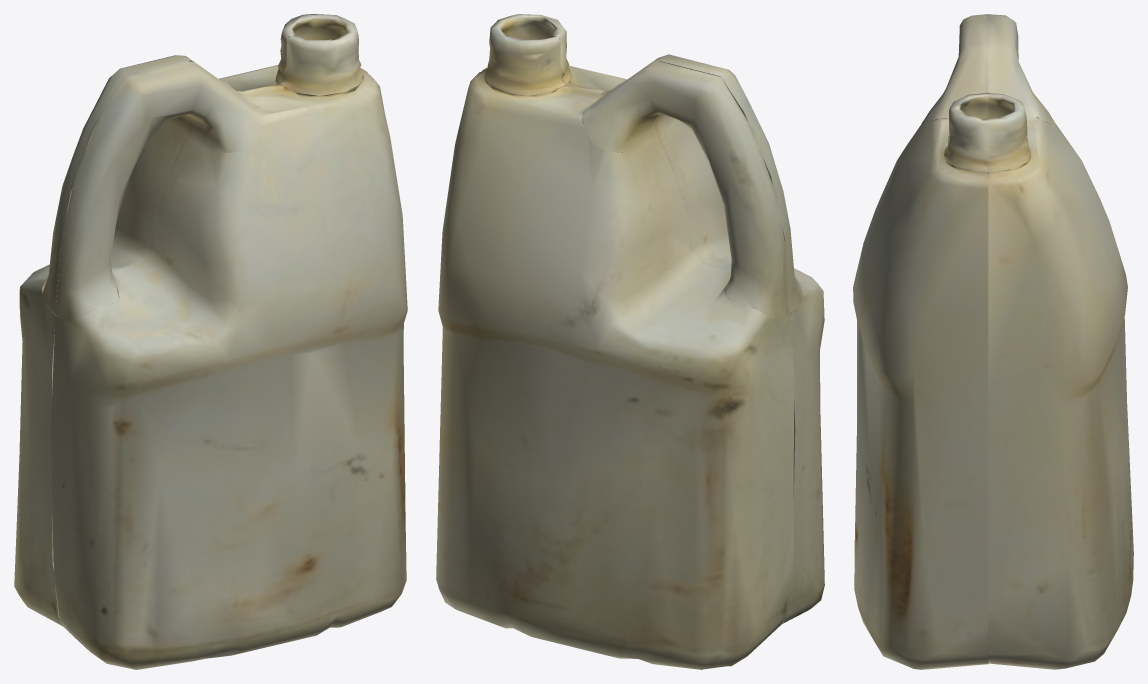
File: plastic_bottle_gallon.glb
The picture shows the model from 3 angles, left to right: view 1: azimuth 30°, elevation 25°; view 2: azimuth 150°, elevation 25°; view 3: azimuth 270°, elevation 25°; orthographic projection.
Visible parts, largest first — view 1: plastic_bottle_gallon; view 2: plastic_bottle_gallon; view 3: plastic_bottle_gallon.
Boxes of the visible parts, left/top/right/bottom form: plastic_bottle_gallon: left=14, top=14, right=407, bottom=669; plastic_bottle_gallon: left=436, top=14, right=824, bottom=669; plastic_bottle_gallon: left=853, top=14, right=1133, bottom=669.
Bounding box in the file's own units: 0.1668 × 0.2745 × 0.1266.
1 material, 1 textured.
